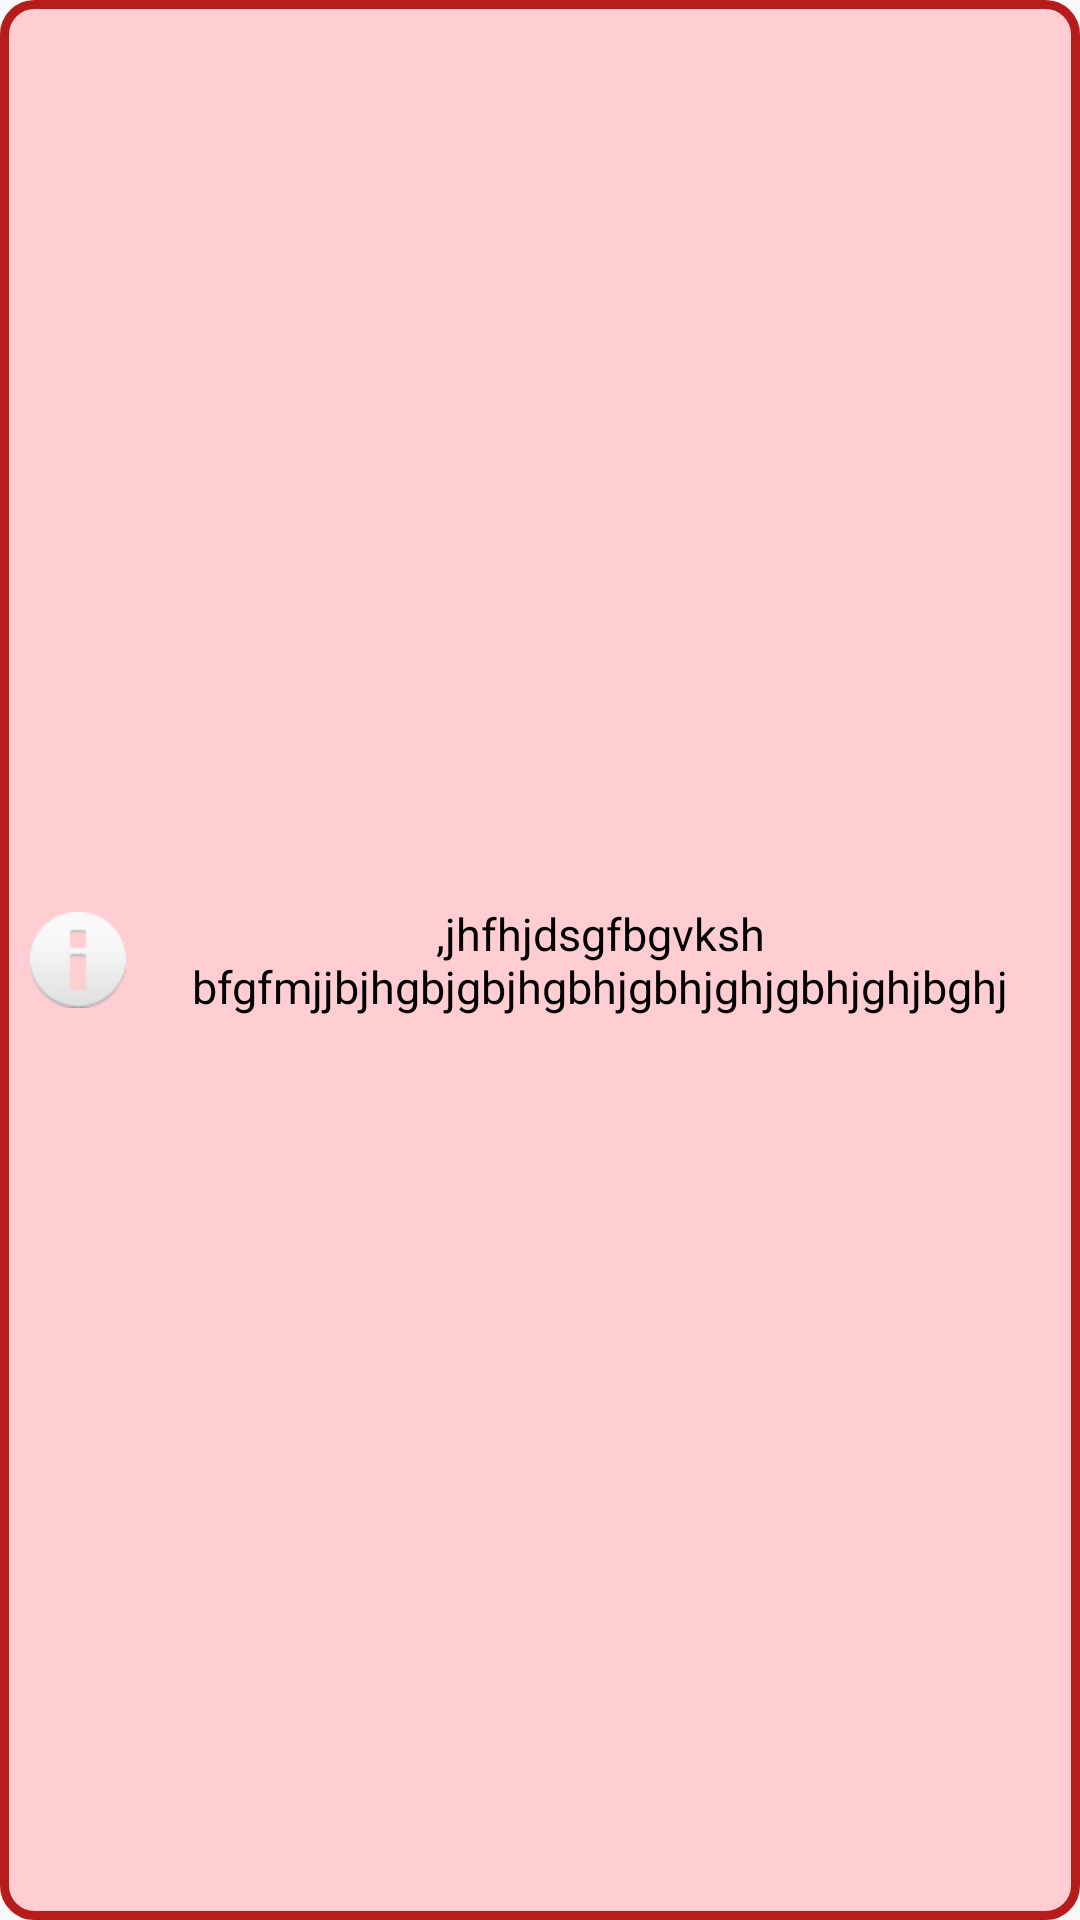

Locate icon controls on the screen. Image size 1080px×1920px, boxes as (x1, y1, x2, y2).
info: (30, 912, 126, 1008)
